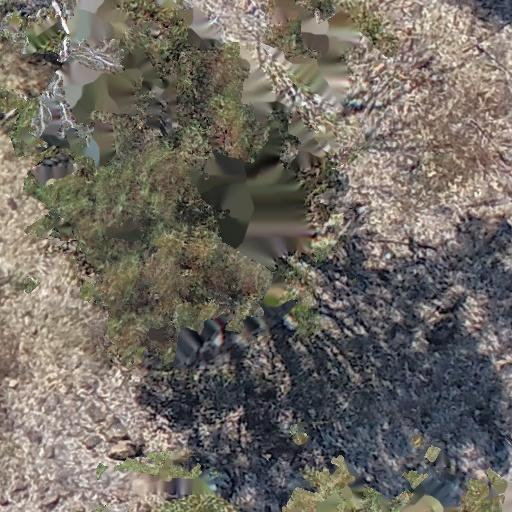stone: (419, 316, 455, 342), (437, 289, 464, 314), (86, 400, 111, 426), (21, 424, 47, 444), (100, 426, 131, 442), (108, 444, 144, 457), (41, 436, 56, 461), (39, 496, 62, 512), (10, 484, 32, 496), (4, 377, 21, 391), (36, 481, 49, 497), (1, 495, 14, 510), (83, 436, 102, 446)
